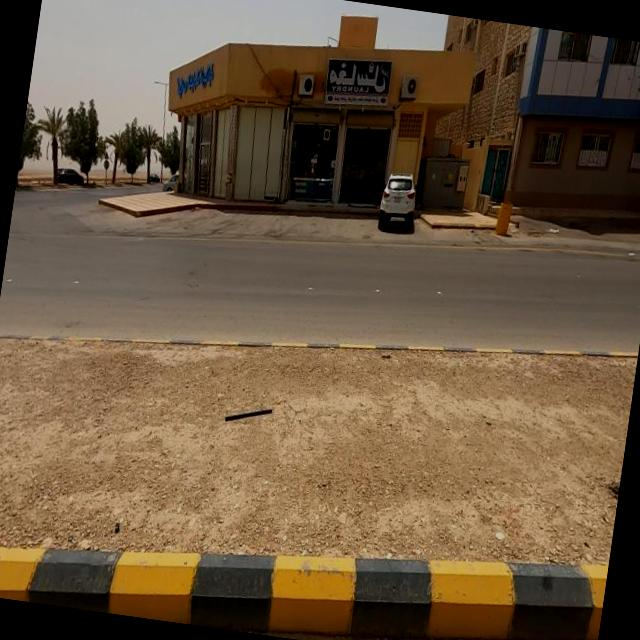debris: (186, 372, 308, 472)
